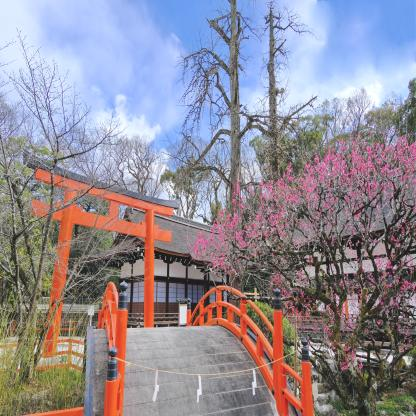Ume: (185, 128, 416, 385)
